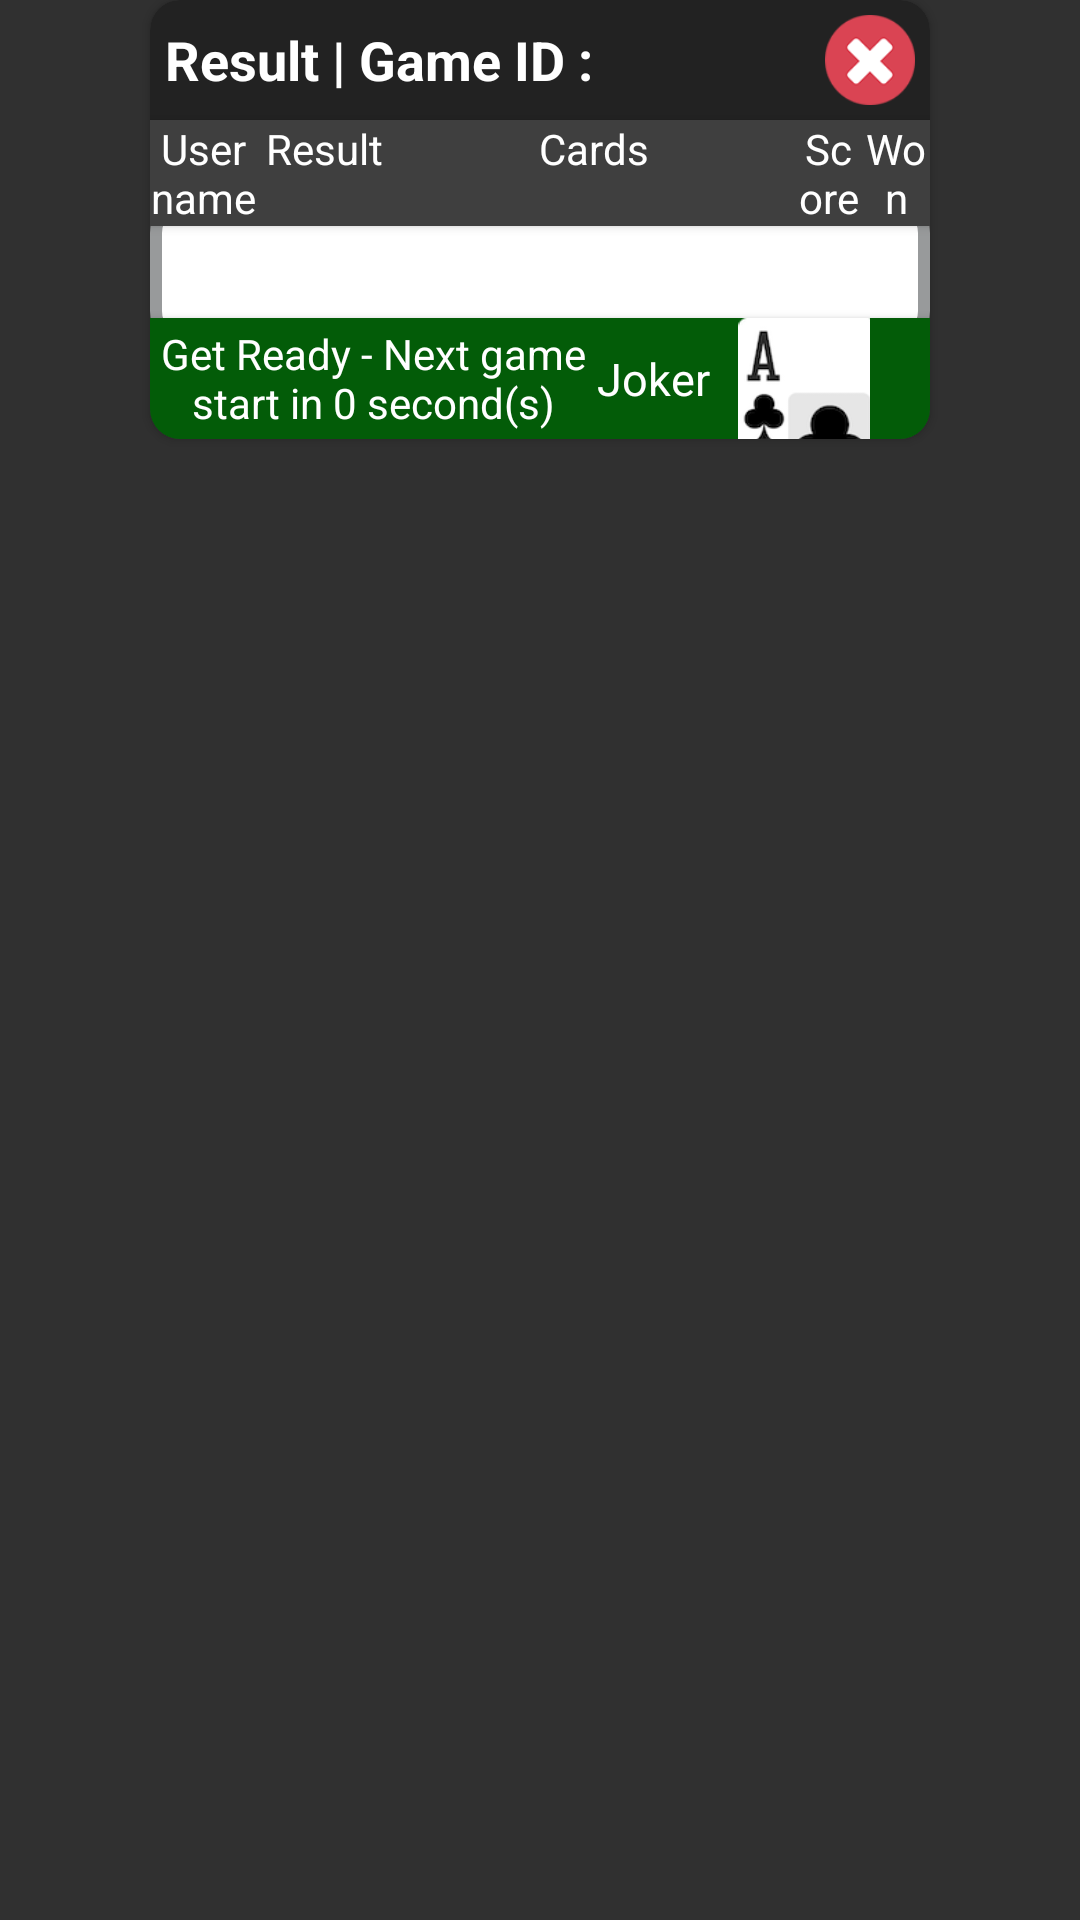

Where to tap for icons on this 1080 × 1920 app screen, as (x=x, y=y):
close: (x=870, y=60)
